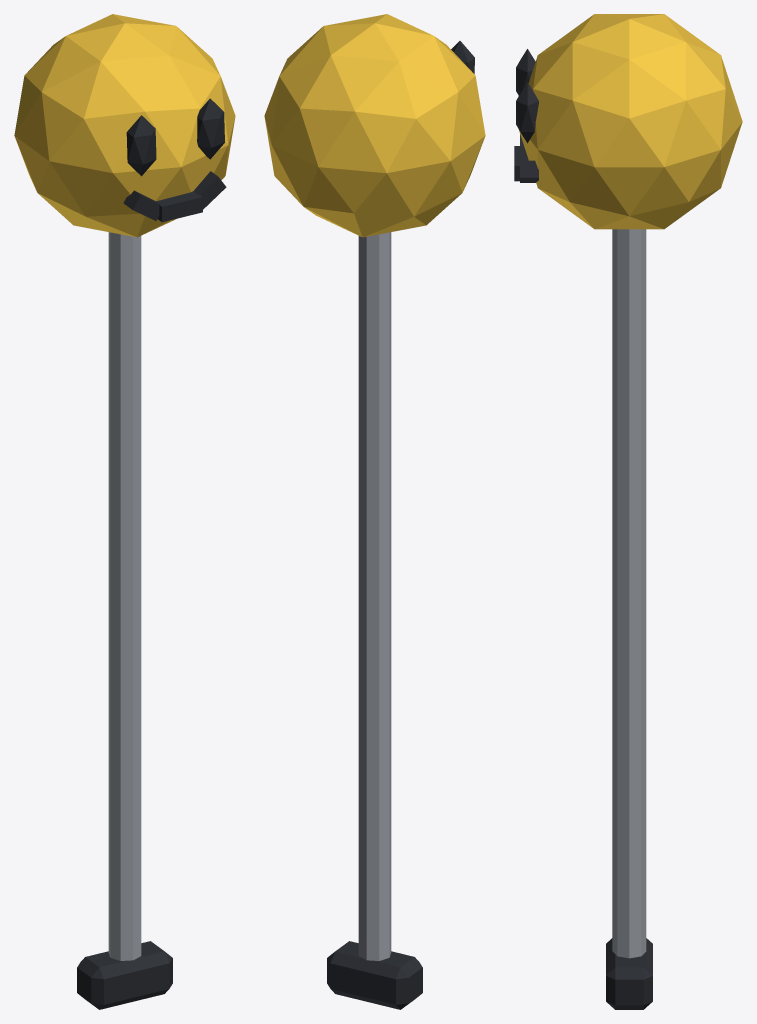
The model's file is quickreply_m2_1.glb.
3 views of the same model, side by side, from view 1: azimuth 30°, elevation 25°; view 2: azimuth 150°, elevation 25°; view 3: azimuth 270°, elevation 25° (orthographic).
Parts seen in each view (by area): view 1: quickreply_m2_1_mesh; view 2: quickreply_m2_1_mesh; view 3: quickreply_m2_1_mesh.
Part boxes in pixels (x1=…): quickreply_m2_1_mesh: x1=14, y1=14, x2=235, y2=1009; quickreply_m2_1_mesh: x1=264, y1=14, x2=485, y2=1009; quickreply_m2_1_mesh: x1=514, y1=14, x2=742, y2=1009.
Bounding box in the file's own units: 0.2283 × 1.14 × 0.242.
